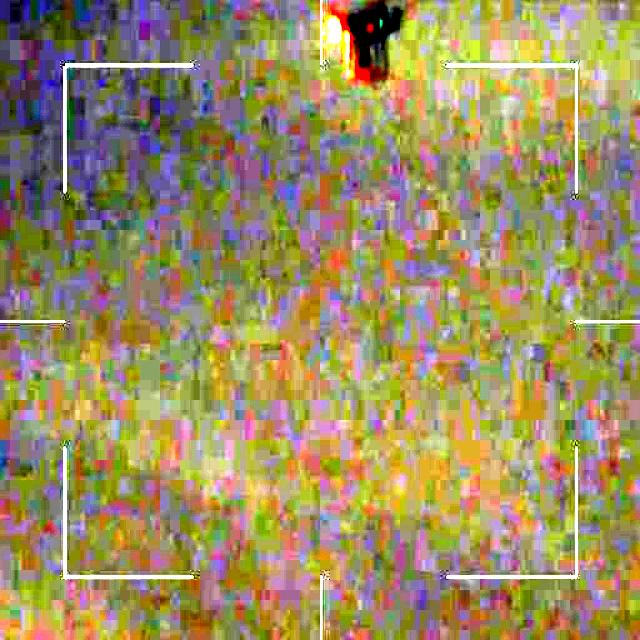bird: (319, 0, 408, 92)
